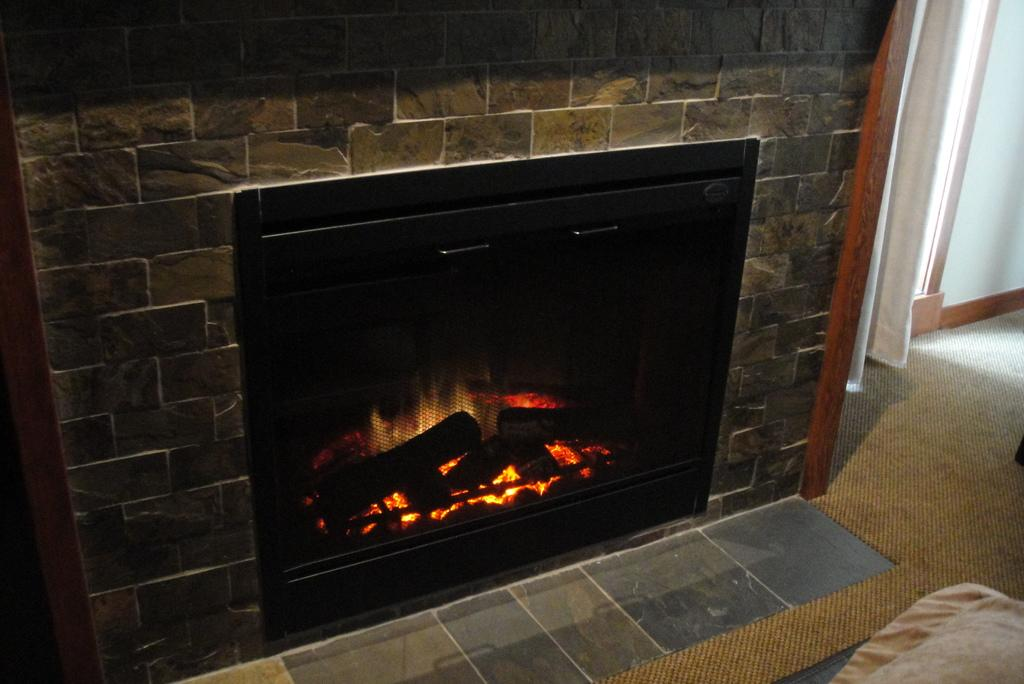Fire: (316, 387, 596, 510)
